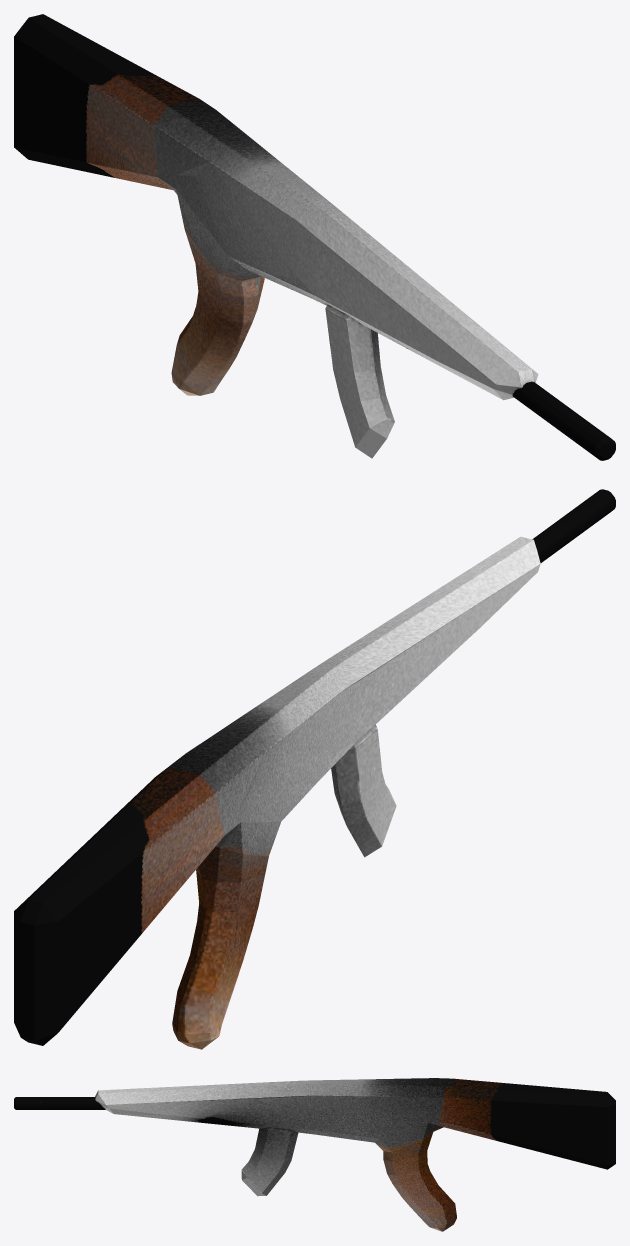
File: gun.obj
3 views of the same model, one above another, from view 1: azimuth 30°, elevation 25°; view 2: azimuth 150°, elevation 25°; view 3: azimuth 270°, elevation 25° (orthographic). The views are drawn at different scales.
Bounding box in the file's own units: 0.104 × 0.4305 × 1.58.
Materials: 1 (1 with a texture image).
